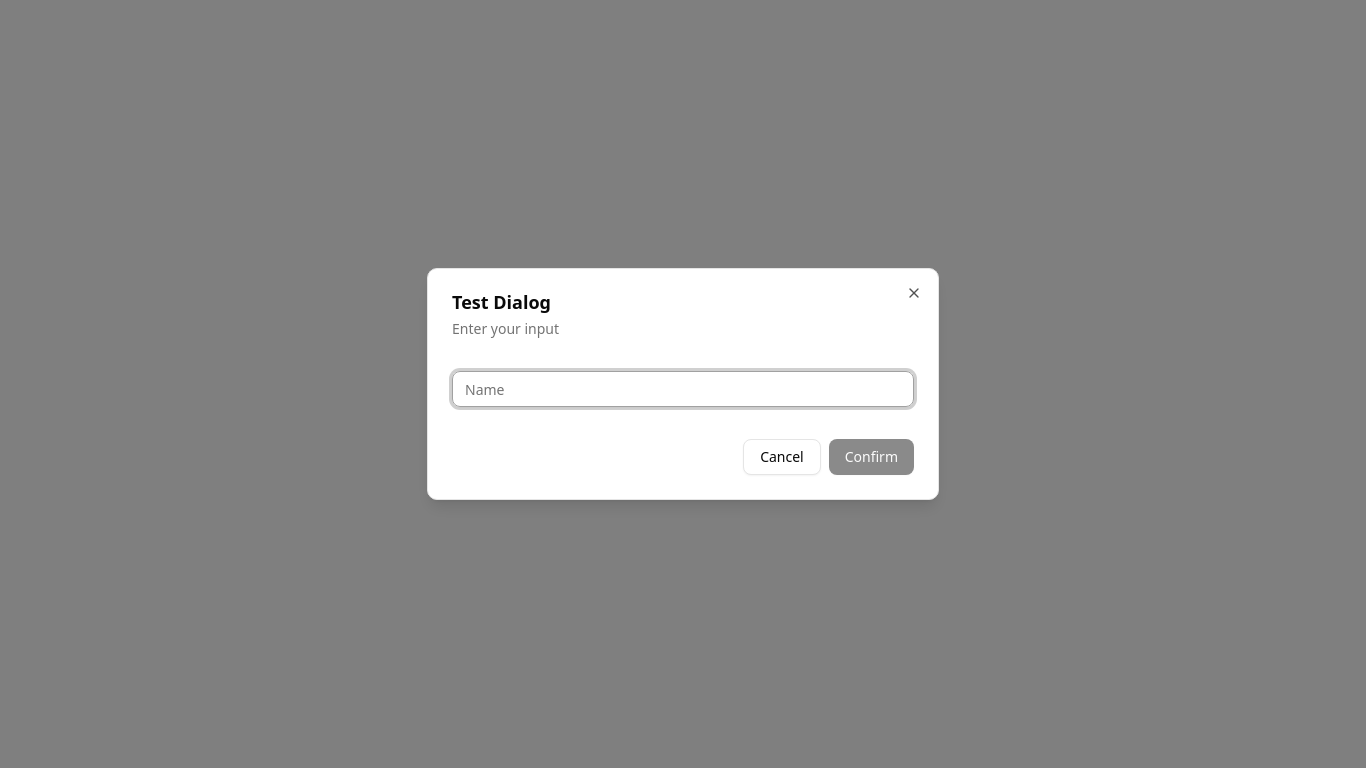
Test case: InputDialog › enables confirm button when input has content
The width and height of the screenshot is (1366, 768).
Type "Valid input" into the field with placeholder "Name" at (683, 389), box [452,371,914,407]
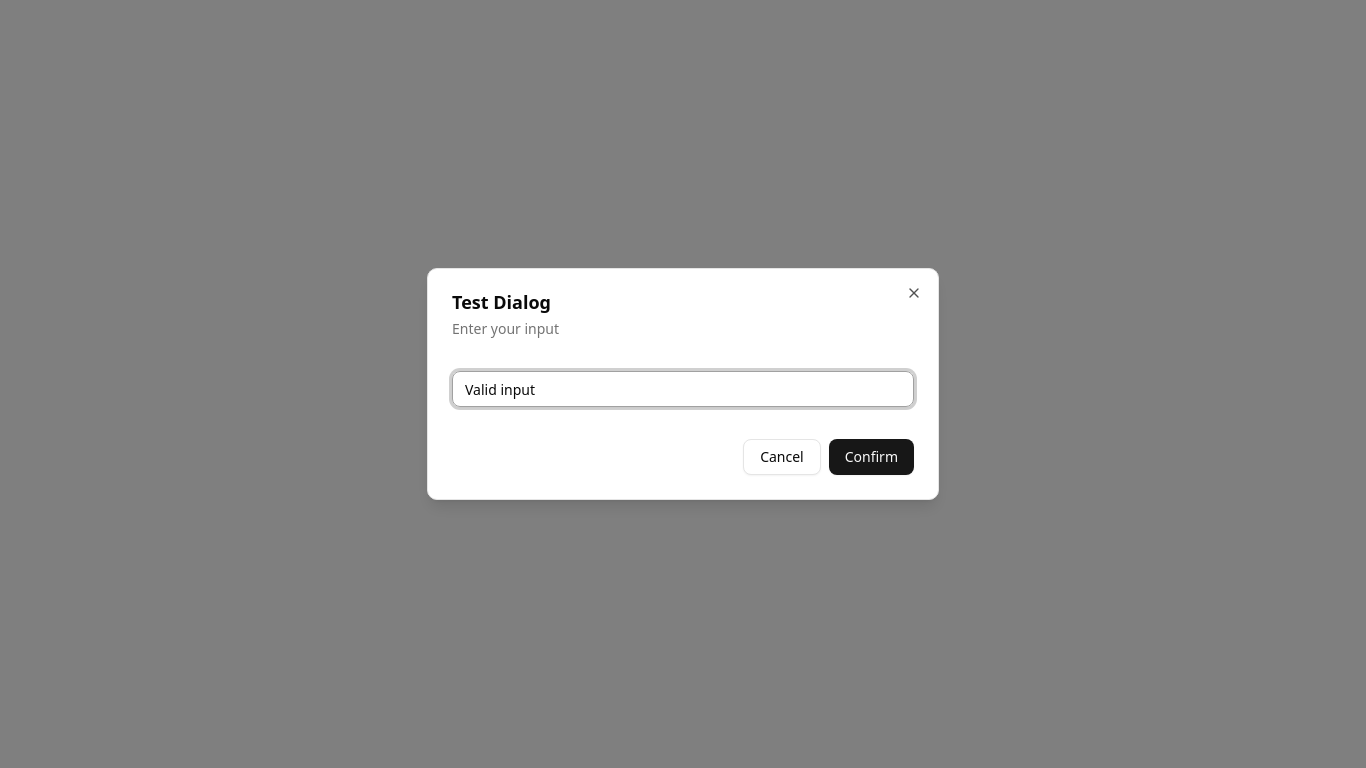
Expected: the button "Confirm" is enabled, [829,439,914,475]
